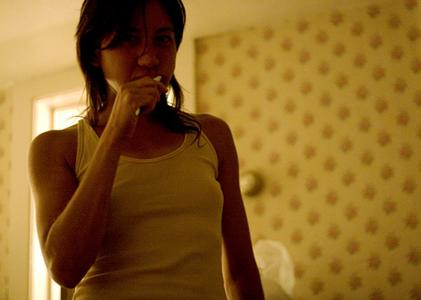person: (31, 2, 269, 300)
